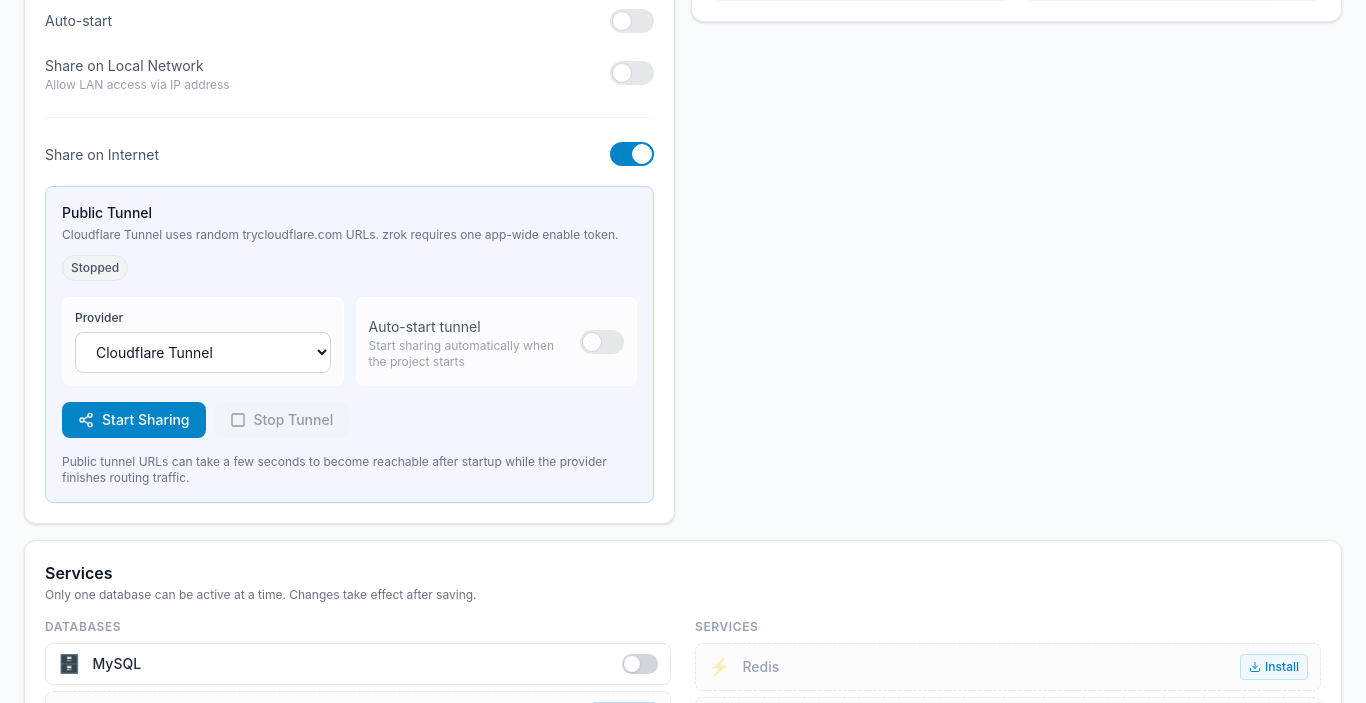
Scenario: ProjectDetail › Internet sharing › ignores a foreign auto-start payload when enabling tunnel auto-start
(page scrolled)
Click the checkbox in the row of "Auto-start tunnel". click: {"x": 602, "y": 342}
box: top-left (580, 330), bottom-right (624, 354)
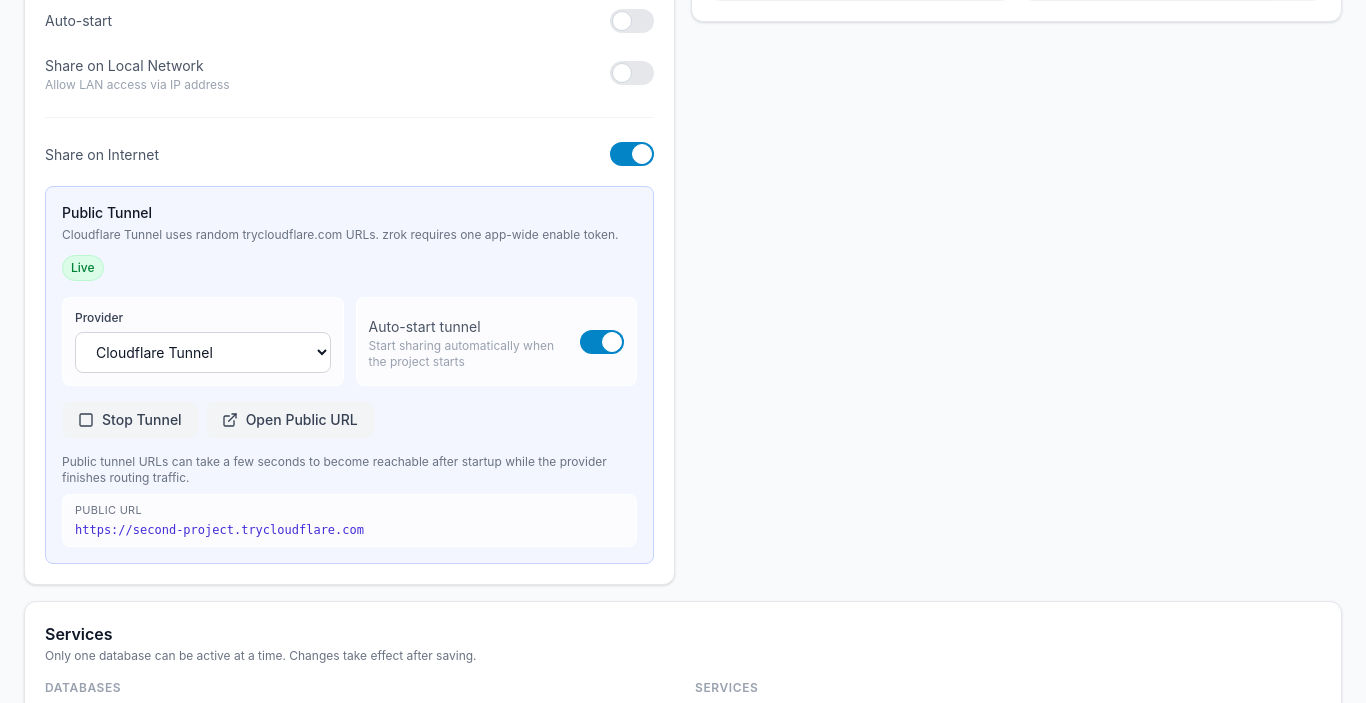
Check: the text "https://second-project.trycloudflare.com" is shown, box top-left (75, 523), bottom-right (364, 537)
